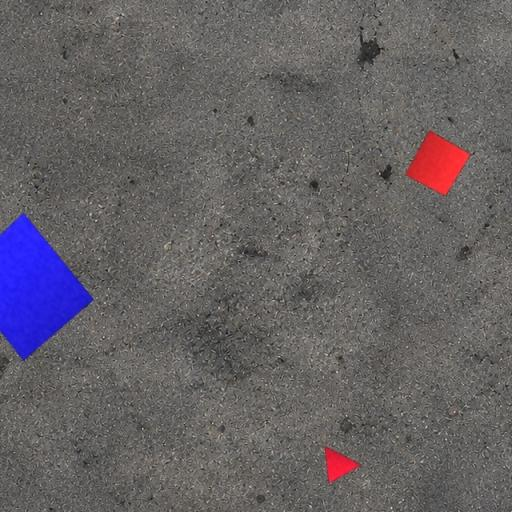BLUE_SQUARE: (0, 212, 94, 361)
RED_SQUARE: (405, 130, 471, 196)
